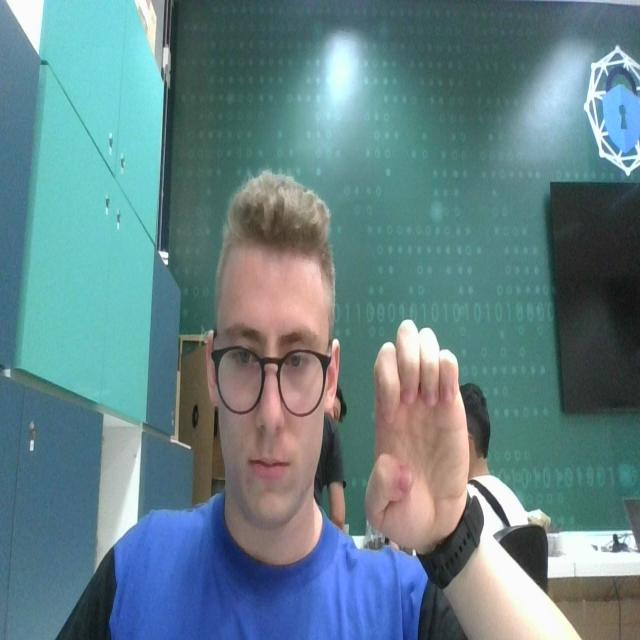E: (363, 315, 474, 544)
